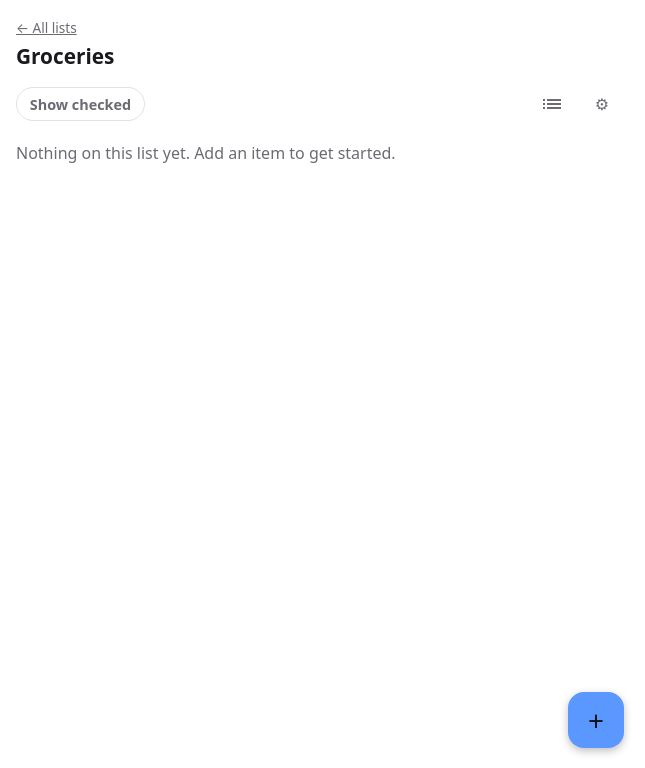
ListPropsPage invite link (T-83) › surfaces the minted invite URL with a copy control after inviting
Check: the link "Groceries" is shown, box [16,42,114,70]
Click the link named "List properties" at (602, 104), box [595,93,609,115]
(page scrolled)
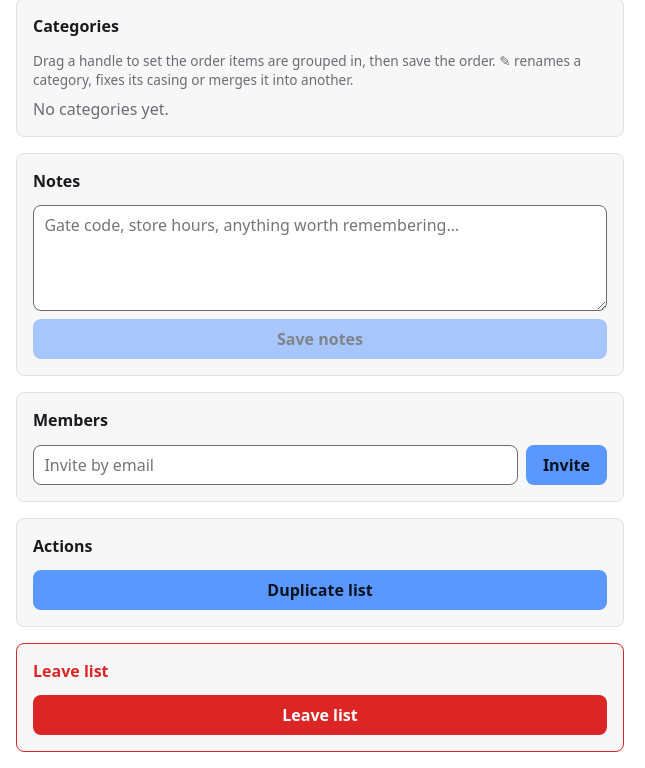
Type "friend@example.com" into the field with placeholder "Invite by email" at (275, 465), box [33,445,518,485]
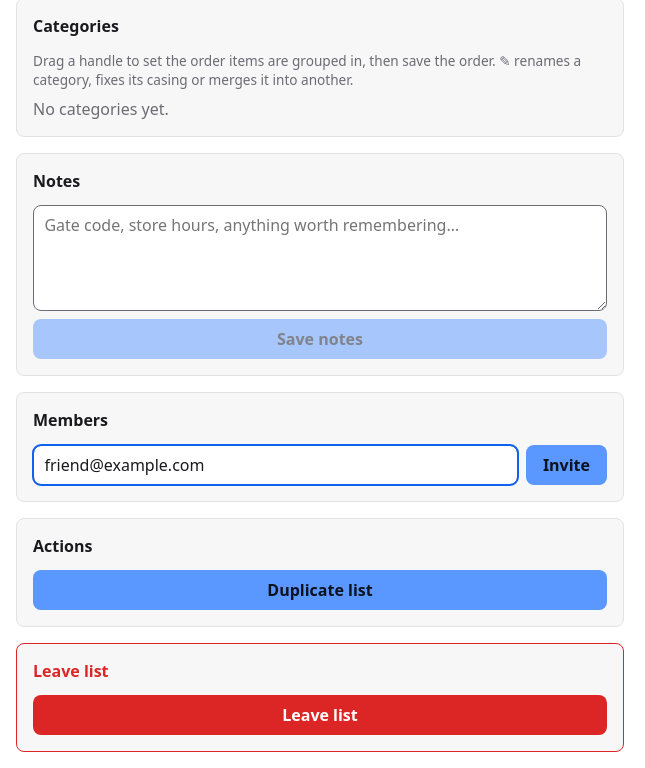
Click the button "Invite" at (566, 465), box [526,445,607,485]
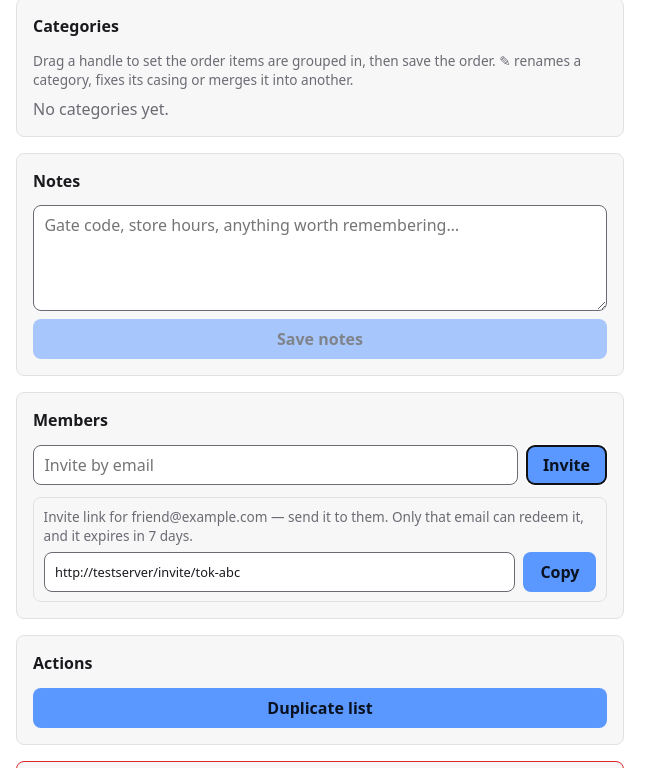
Check: the field named "Invite link" holds "http://testserver/invite/tok-abc", box [44,552,515,592]
Check: the text "friend@example.com" is shown, box [44,507,584,545]
Check: the button "Copy" is shown, box [523,552,596,592]
